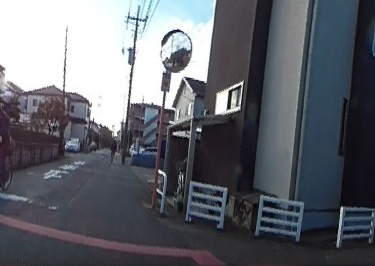person: (109, 138, 117, 163)
